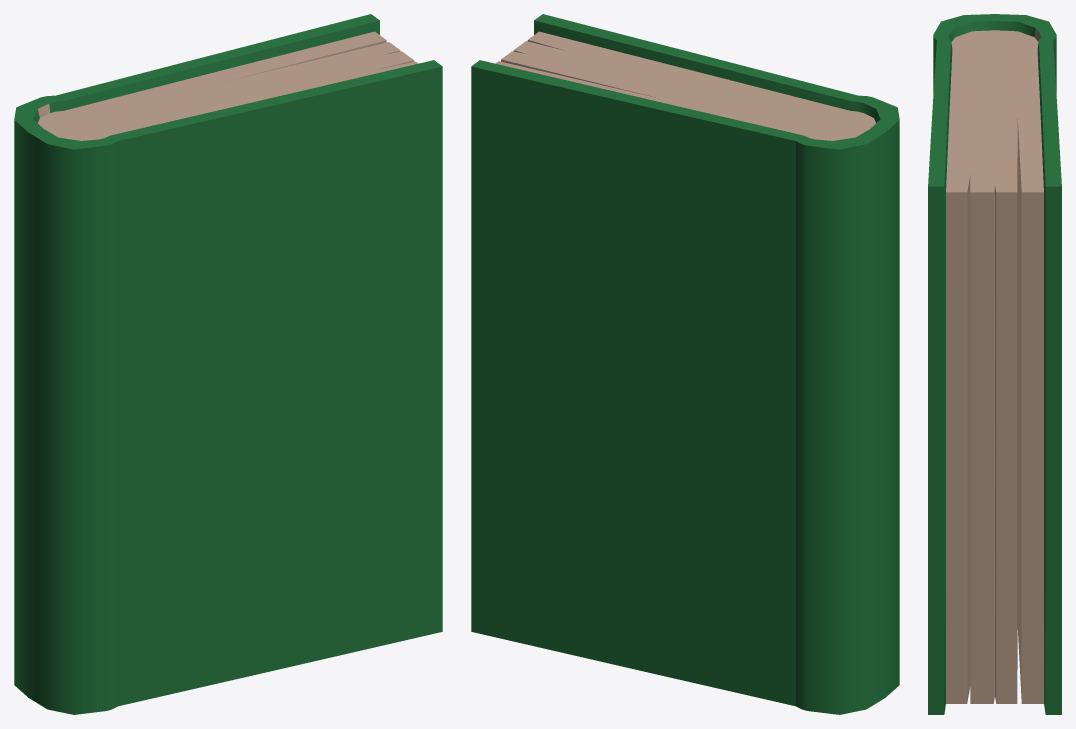
File: (Item)Book_01.fbx
3 renders of one model, left to right at view 1: azimuth 30°, elevation 25°; view 2: azimuth 150°, elevation 25°; view 3: azimuth 270°, elevation 25°, orthographic. The views are drawn at different scales.
Visible parts, largest first — view 1: Book; view 2: Book; view 3: Book.
Part boxes in pixels (x1=…): Book: x1=14, y1=14, x2=442, y2=714; Book: x1=471, y1=14, x2=899, y2=714; Book: x1=928, y1=14, x2=1061, y2=714.
Bounding box in the file's own units: 23.61 × 33.7 × 7.74.
